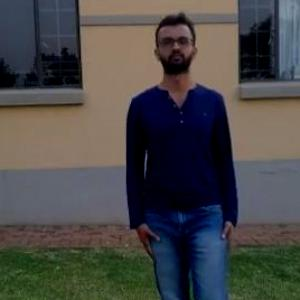follow: (124, 22, 235, 290)
